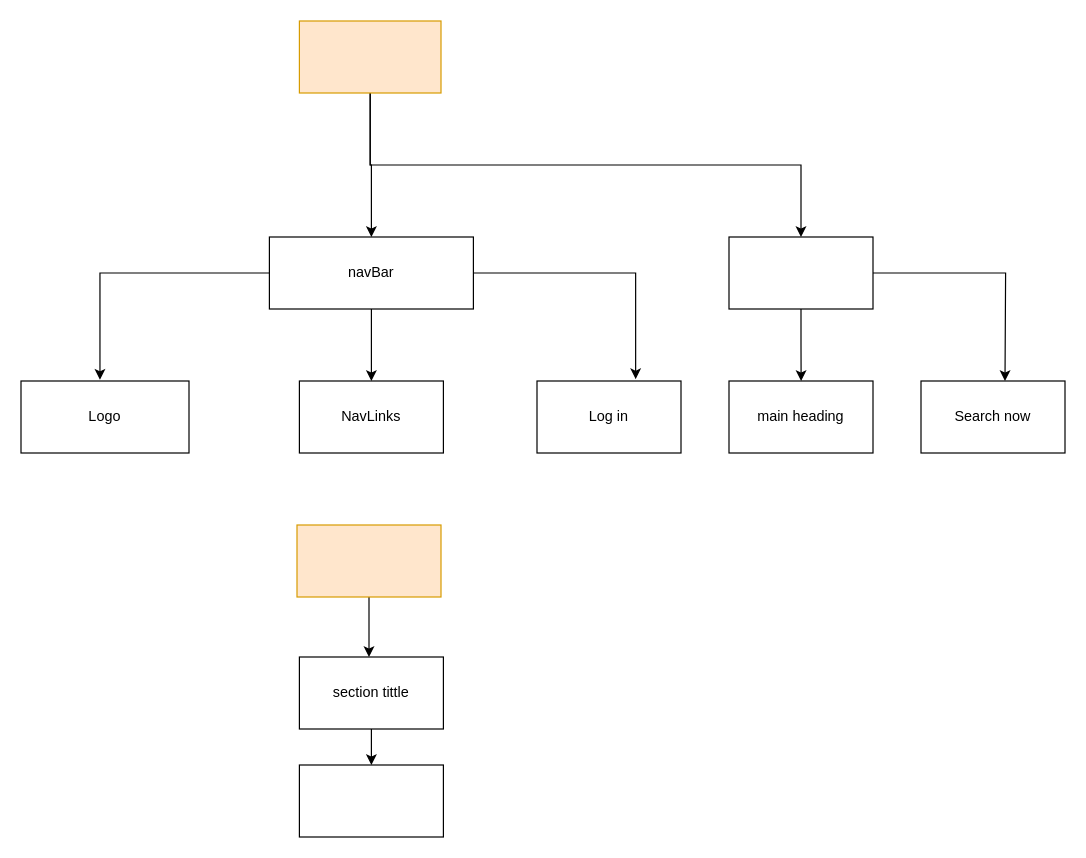
Image size: 1086x858. Some labels were removed from this diagram. Each missing label, with the centre of its shape:
"Home Landing" goes at point 369,56.
"Landing page" goes at point 800,272.
"section 2" goes at point 368,560.
"section paragraph" goes at point 370,800.
